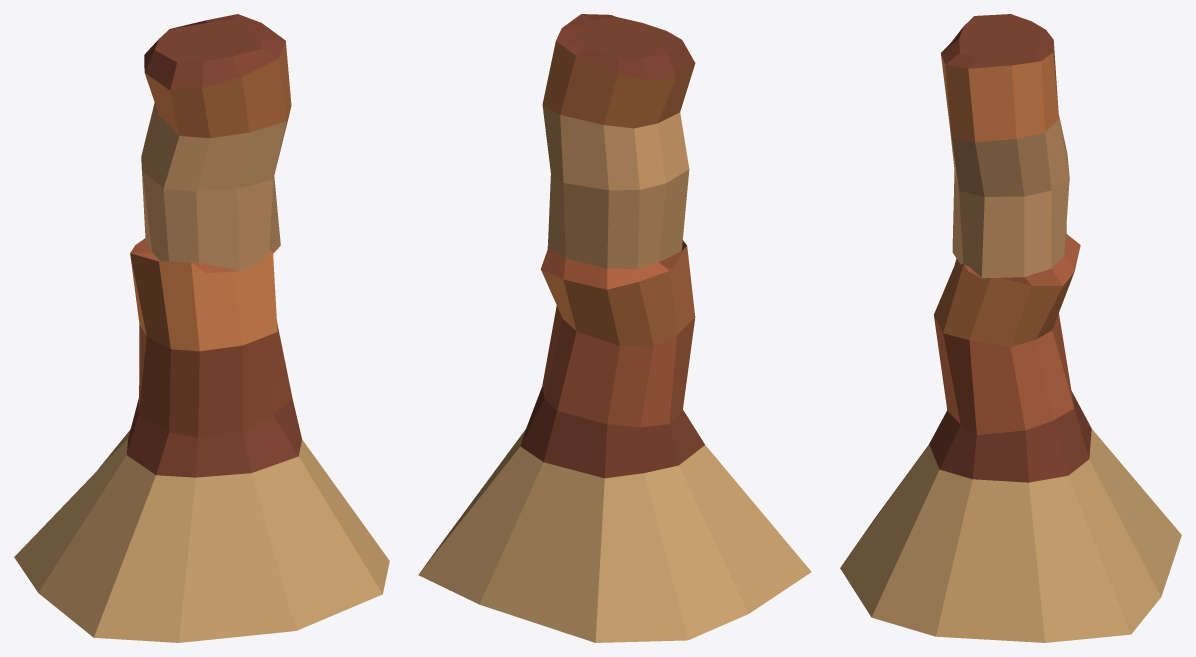
The model's file is SM_Butte_B.fbx.
3 renders of one model, left to right at view 1: azimuth 30°, elevation 25°; view 2: azimuth 150°, elevation 25°; view 3: azimuth 270°, elevation 25°, orthographic.
Parts seen in each view (by area): view 1: Butte_B; view 2: Butte_B; view 3: Butte_B.
Part boxes in pixels (<box>): Butte_B: <box>14,14,389,642</box>; Butte_B: <box>418,14,811,642</box>; Butte_B: <box>840,14,1181,642</box>.
Bounding box in the file's own units: 2458 × 2339 × 3985.
